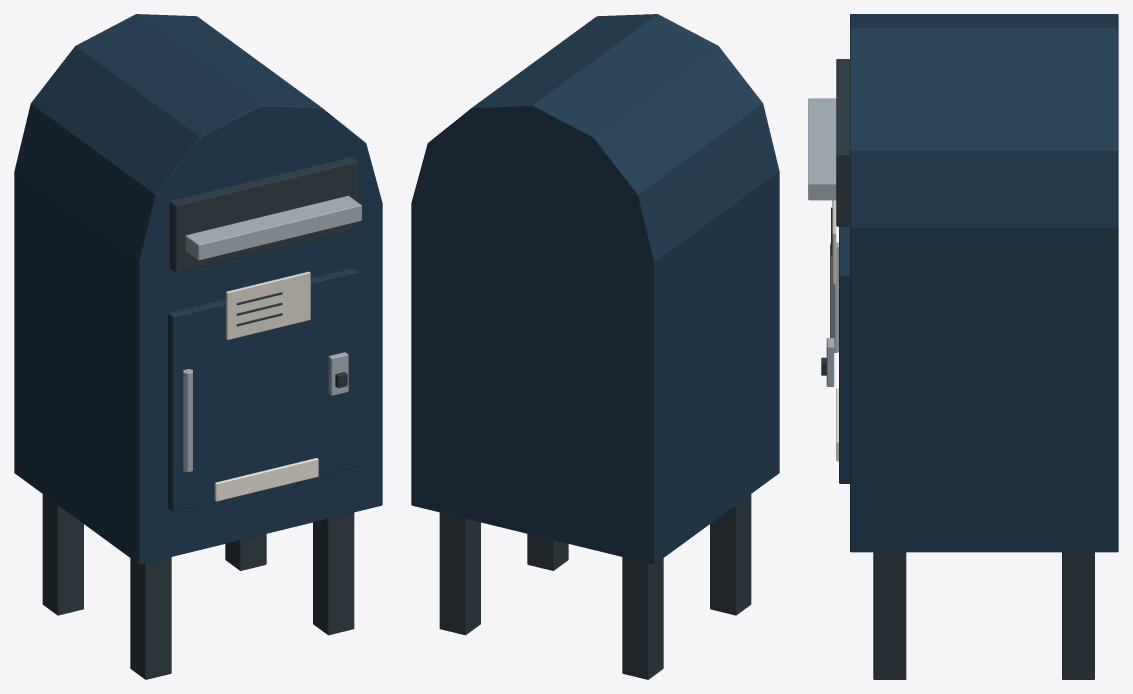
Rendered from b14_postal_collection_drop_box.glb.
3 views of the same model, side by side, from view 1: azimuth 30°, elevation 25°; view 2: azimuth 150°, elevation 25°; view 3: azimuth 270°, elevation 25° (orthographic). The views are drawn at different scales.
Parts seen in each view (by area): view 1: b14_postal_collection_drop_box; view 2: b14_postal_collection_drop_box; view 3: b14_postal_collection_drop_box.
Part boxes in pixels (<box>): b14_postal_collection_drop_box: <box>14,14,382,679</box>; b14_postal_collection_drop_box: <box>411,14,779,679</box>; b14_postal_collection_drop_box: <box>808,14,1118,679</box>.
Bounding box in the file's own units: 0.64 × 1.4 × 0.658.
